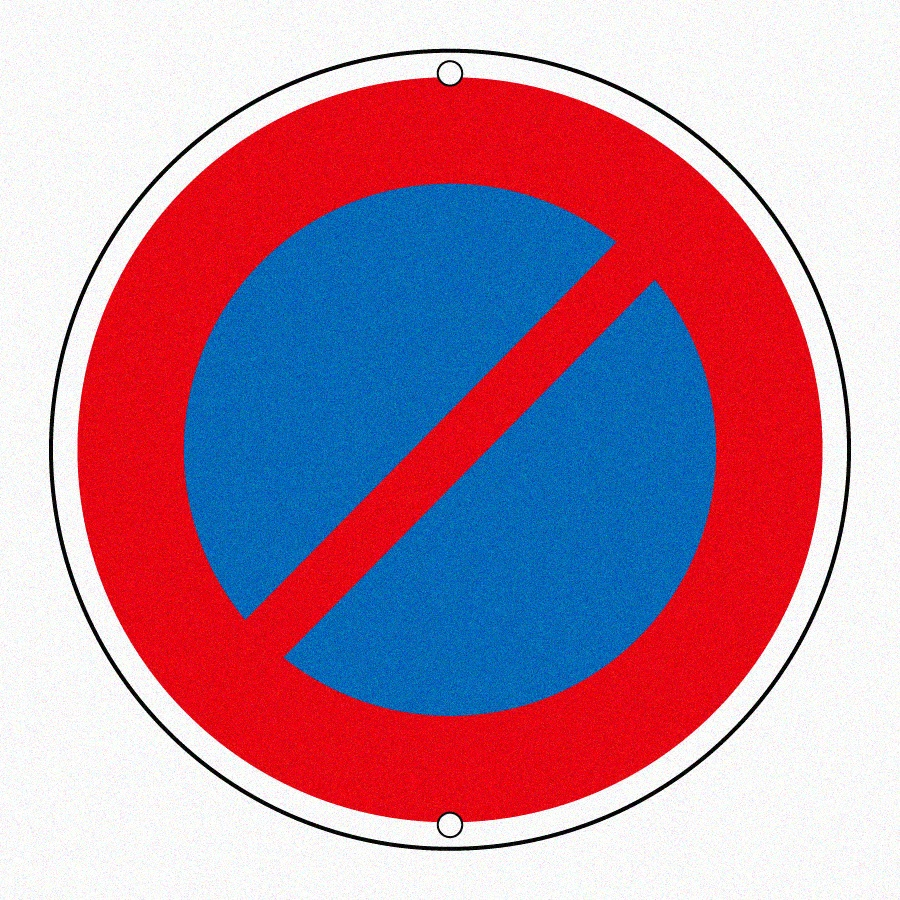Prohibition_sign: (28, 28, 886, 861)
